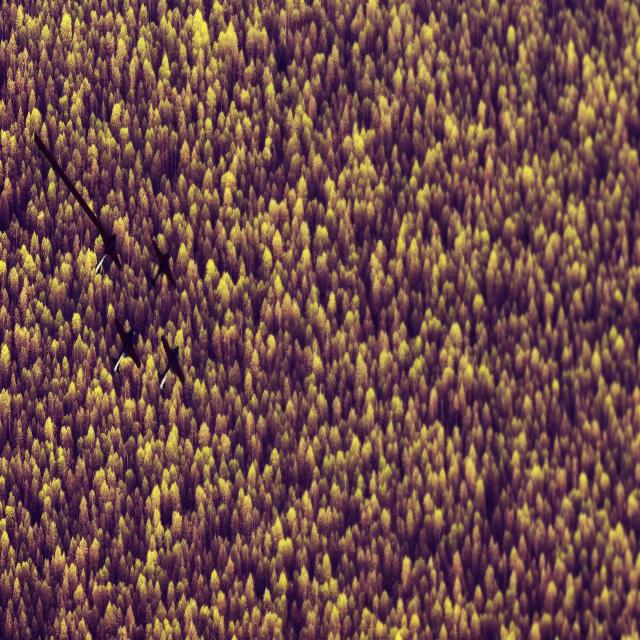airplane: (33, 130, 122, 274), (110, 316, 141, 373), (158, 334, 185, 391), (149, 237, 176, 290)
